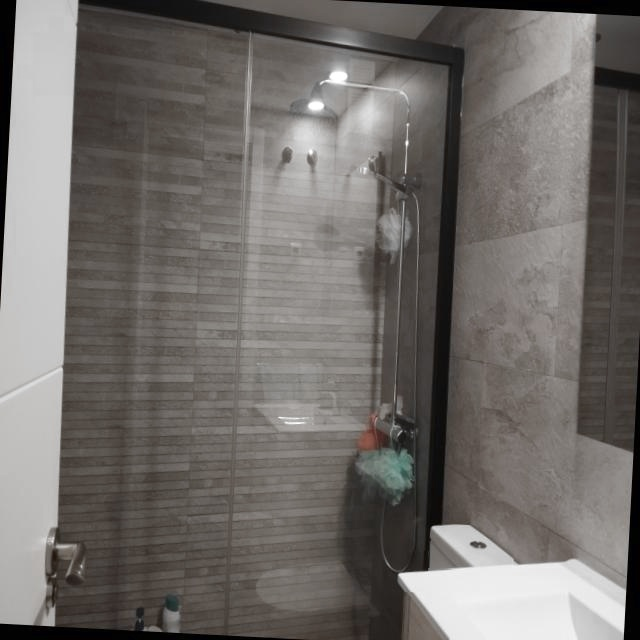cabinet: (403, 593, 443, 640)
shelf: (54, 0, 466, 640)
table: (431, 525, 514, 569)
wardrobe: (398, 559, 625, 640)
